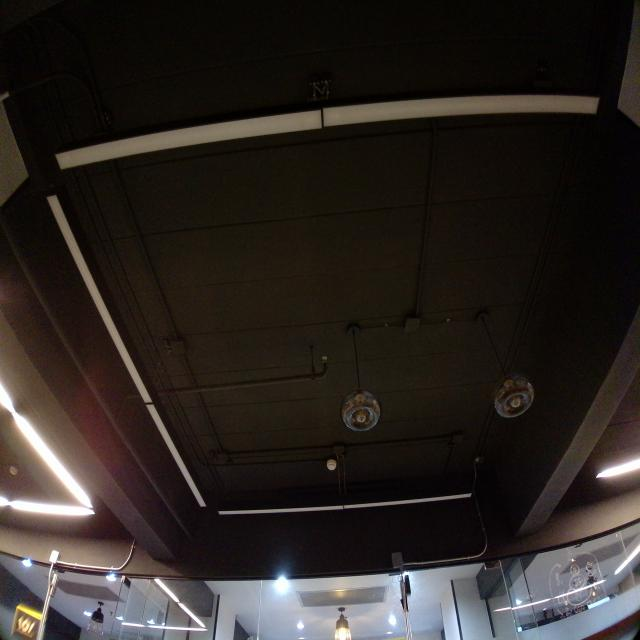lamp2_off: (40, 186, 216, 518), (47, 86, 608, 181), (214, 478, 481, 520)
